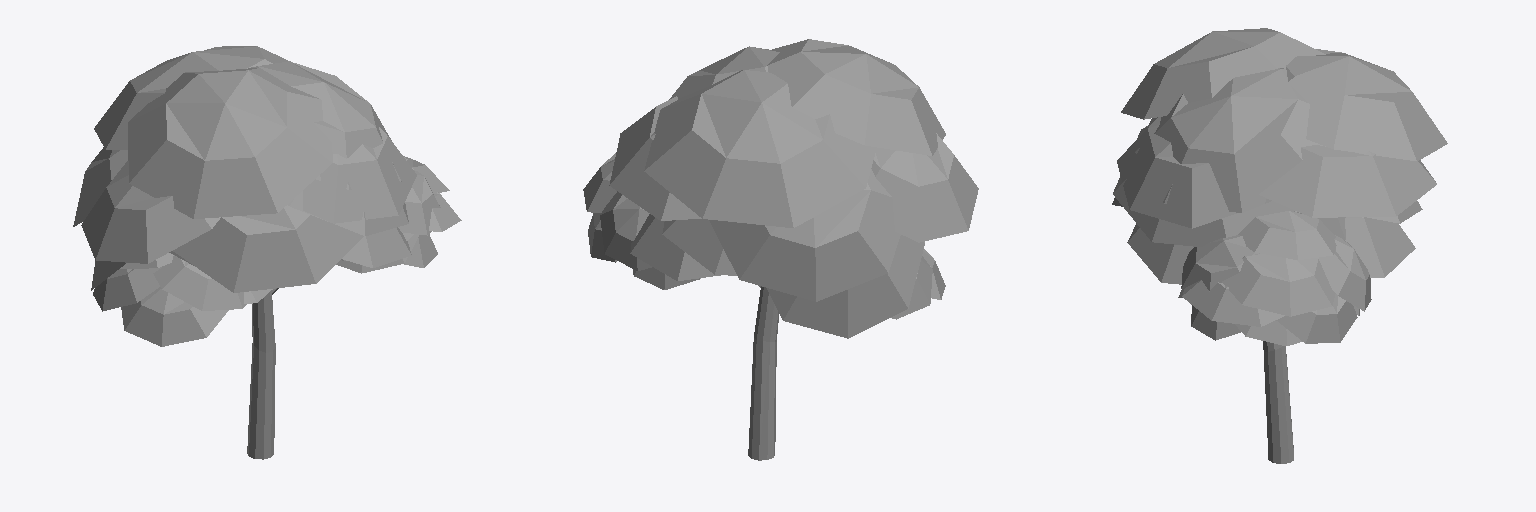
The model's file is Tree_3.obj.
The picture shows the model from 3 angles: view 1: azimuth 30°, elevation 25°; view 2: azimuth 150°, elevation 25°; view 3: azimuth 270°, elevation 25°; orthographic projection.
Visible parts, largest first — view 1: Tree_3_Cylinder.000; view 2: Tree_3_Cylinder.000; view 3: Tree_3_Cylinder.000.
Boxes of the visible parts, x1=… form: Tree_3_Cylinder.000: x1=73, y1=46, x2=461, y2=459; Tree_3_Cylinder.000: x1=583, y1=39, x2=978, y2=460; Tree_3_Cylinder.000: x1=1112, y1=28, x2=1447, y2=463.
Size of the model in its own units: 2.77 by 2.93 by 2.24.